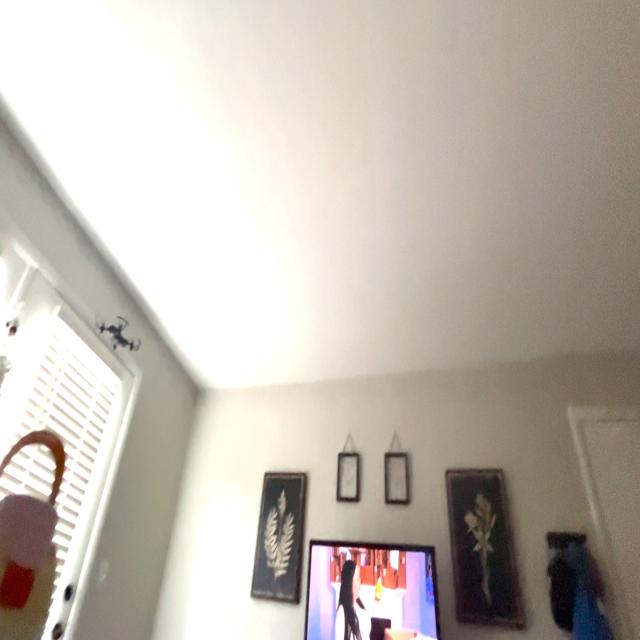drone: (82, 308, 148, 368)
